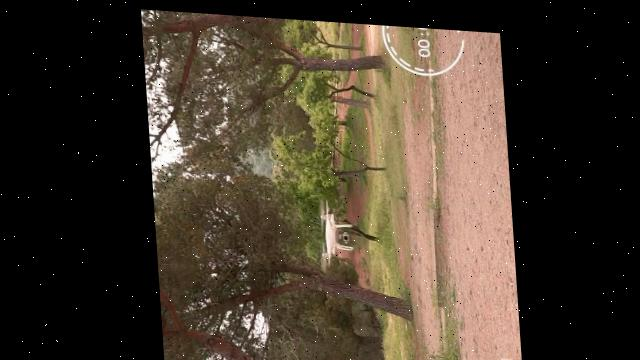drone: (311, 195, 351, 265)
